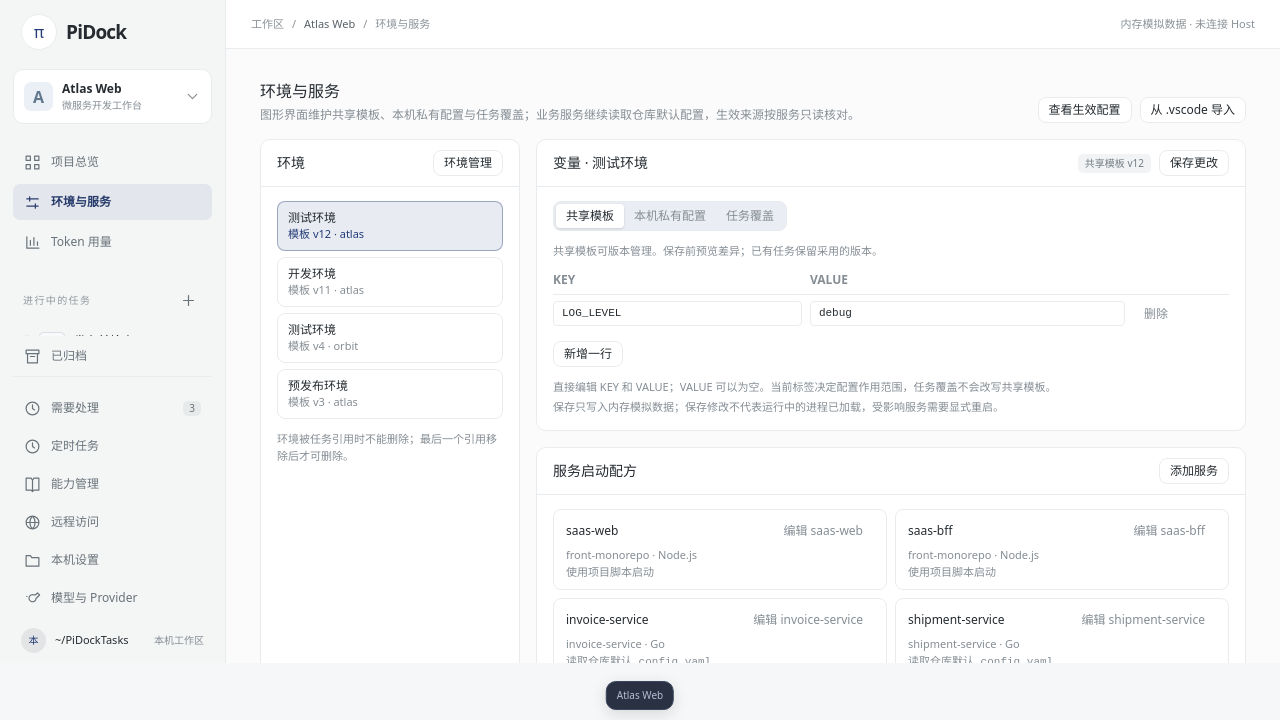
it: environment scope editing › previews a shared-template diff, increments the version, and keeps the task's recorded version
The image size is (1280, 720).
Expected: the heading "环境与服务" is shown, [260,80,340,102]
Replace the text in the field named "第 1 行 VALUE" with "trace" at (967, 314), box [810,301,1125,326]
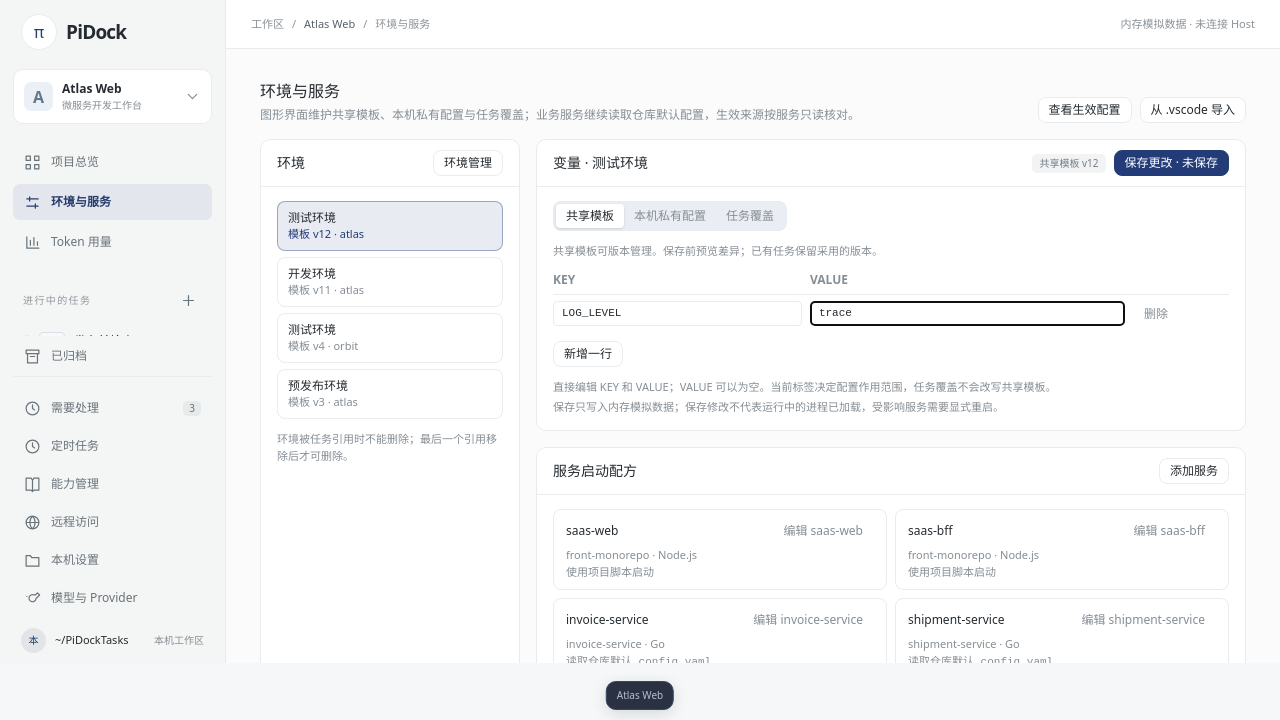
Click the button "保存更改 · 未保存" at (1171, 163), box [1114,150,1229,176]
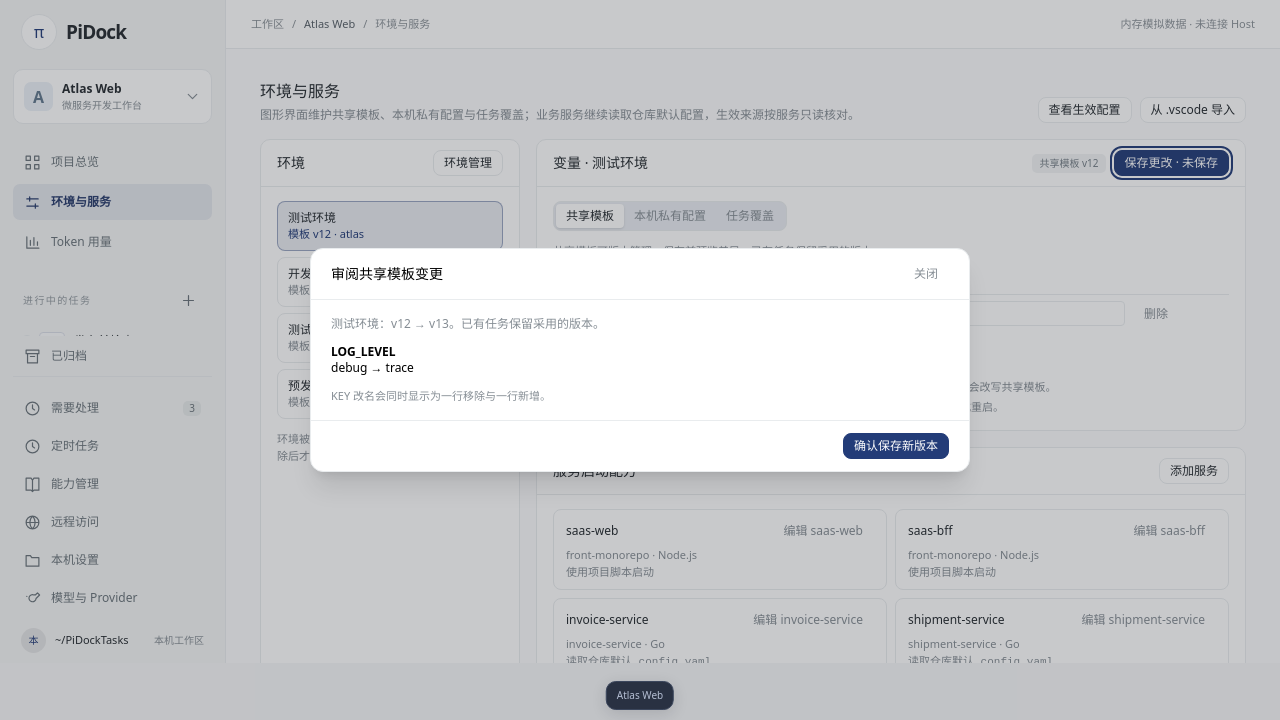
Now the text "测试环境：v12 → v13。已有任务保留采用的版本。" is shown, box [331,315,605,332]
Now the text "debug → trace" is shown, box [331,343,414,376]
Click the button "确认保存新版本" at (896, 446), box [843,433,949,459]
(page scrolled)
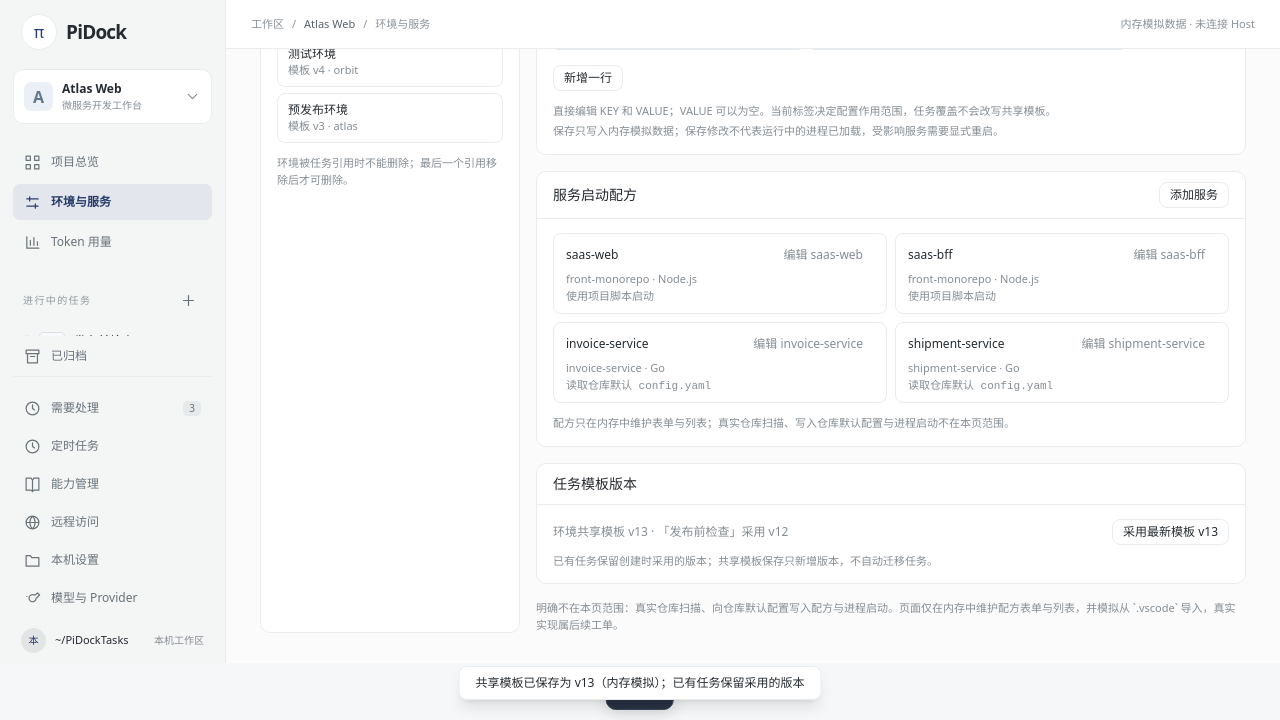
Now the button "共享模板已保存为 v13（内存模拟）；已有任务保留采用的版本" is shown, box [458,666,822,700]
Now the text "环境共享模板 v13 · 「发布前检查」采用 v12" is shown, box [553,524,788,540]
Now the button "采用最新模板 v13" is shown, box [1112,519,1229,545]
